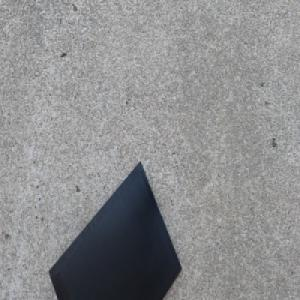PlasticPart: (47, 159, 182, 300)
